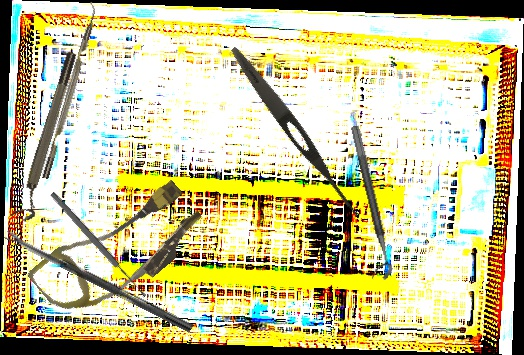Cannula: (26, 163, 212, 339)
Chopper: (33, 0, 102, 180)
Dressing Forceps: (225, 42, 367, 223)
Fixation Ring: (10, 49, 87, 225), (338, 125, 395, 283)
Surgical Spoon: (4, 229, 194, 333), (49, 190, 148, 300)
